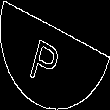P_N: (37, 24, 73, 86)
